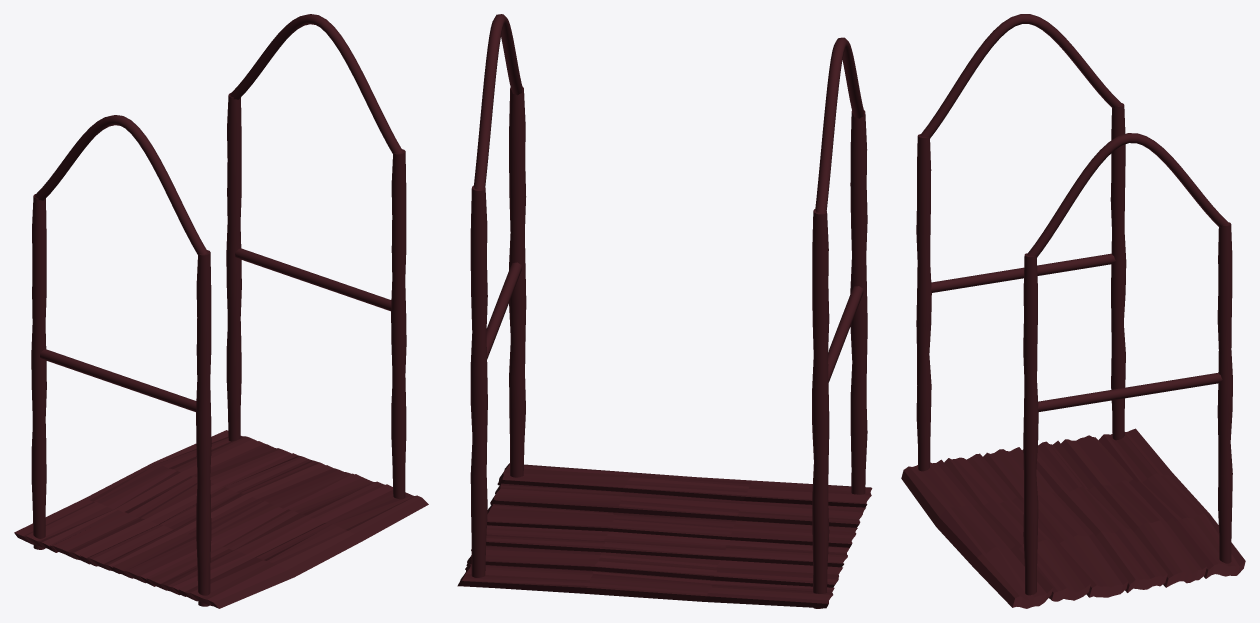
Rendered from level_one_tree_platform_3.fbx.
3 renders of one model, left to right at view 1: azimuth 30°, elevation 25°; view 2: azimuth 150°, elevation 25°; view 3: azimuth 270°, elevation 25°, orthographic. The views are drawn at different scales.
Parts seen in each view (by area): view 1: TreePlatform03; view 2: TreePlatform03; view 3: TreePlatform03.
Part boxes in pixels (x1=…): TreePlatform03: x1=14, y1=14, x2=428, y2=608; TreePlatform03: x1=457, y1=14, x2=872, y2=608; TreePlatform03: x1=901, y1=14, x2=1245, y2=608.
Bounding box in the file's own units: 584 × 733 × 506.
